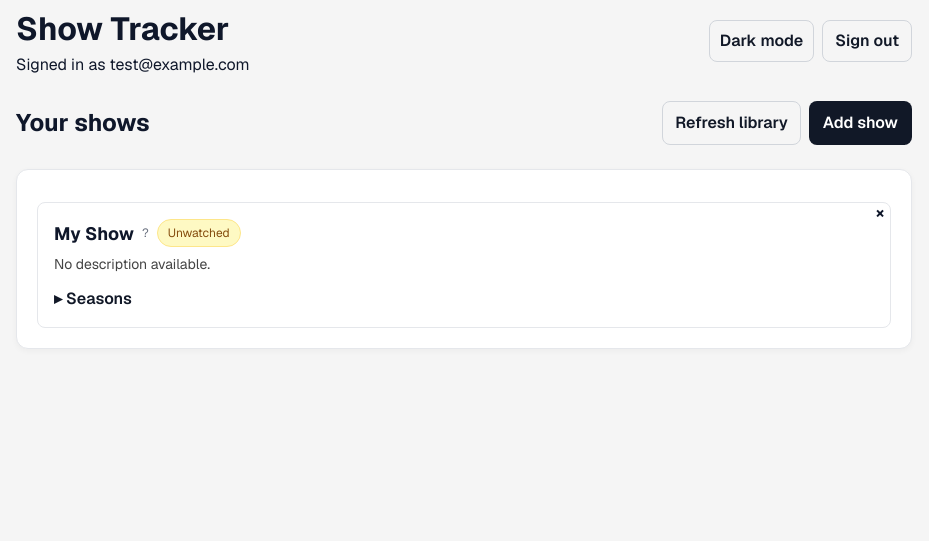
Show interactions › expands a show and toggles episode watched
The width and height of the screenshot is (929, 541).
Expected: the text "My Show" is shown, [54,220,134,246]
What coordinates should you click on to do the following:
click the button "▸ Seasons"
I would click on:
 (93, 299)
Its box is [54,287,132,311].
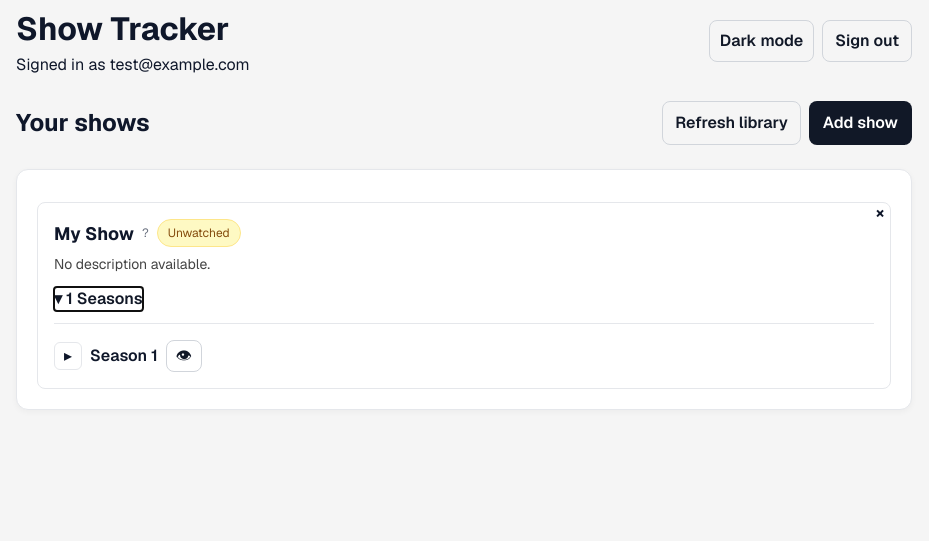
// Expand season within the seasons list.
What coordinates should you click on to do the following:
click the button named "Expand season"
I would click on:
 (68, 356)
Its box is [54,342,82,370].
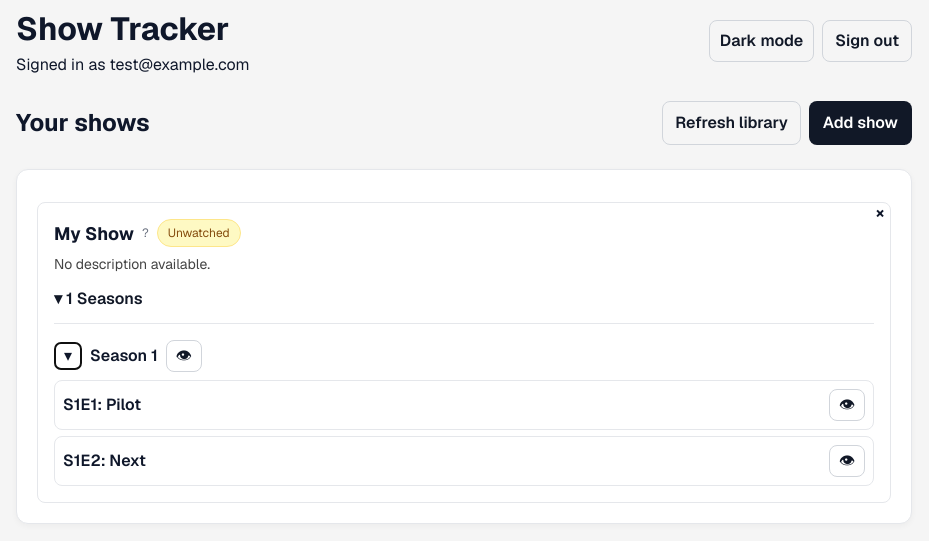
Result: the text "S1E1: Pilot" is shown at [63,393,141,417]
What coordinates should you click on to do the following:
click the button named "Mark watched"
I would click on:
 (847, 405)
Its box is [829,389,865,421].
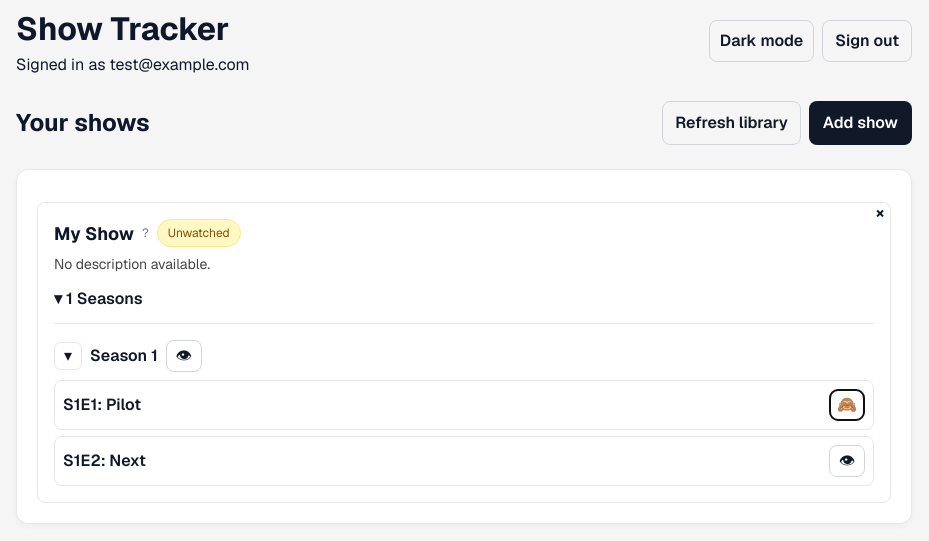
Result: the button named "Mark unwatched" is shown at [829,389,865,421]
